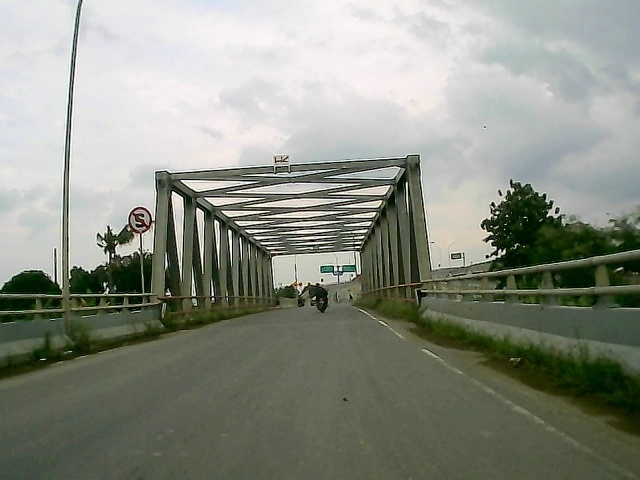Dilarang berhenti: (125, 204, 156, 235)
